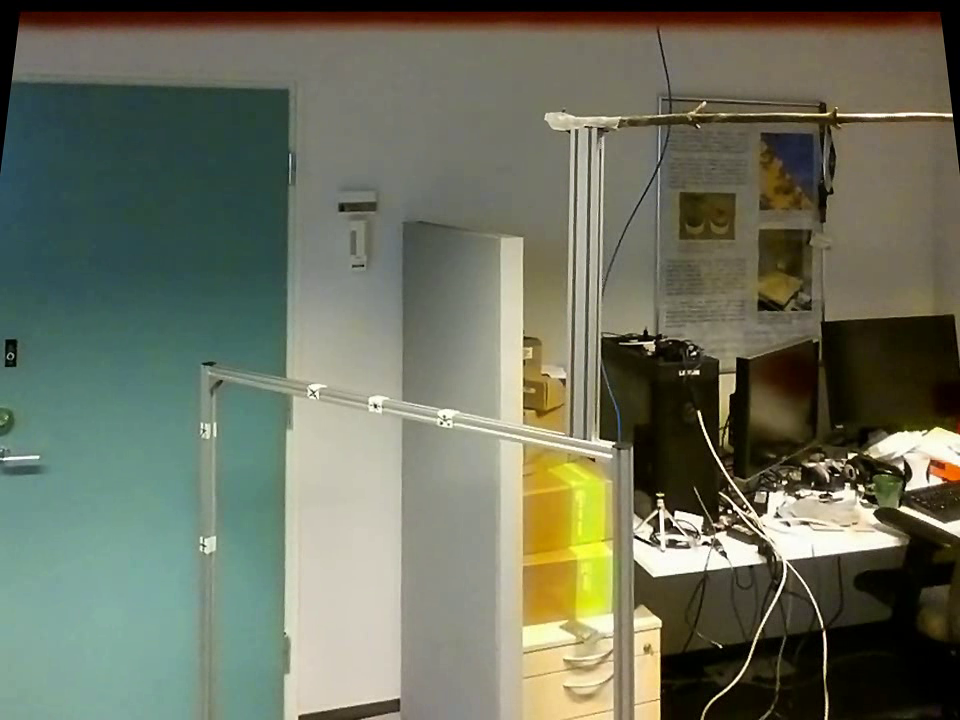aluminum_frame: (198, 349, 624, 463), (558, 129, 606, 437), (189, 351, 222, 716), (605, 435, 640, 717)
branch: (619, 93, 944, 137)
